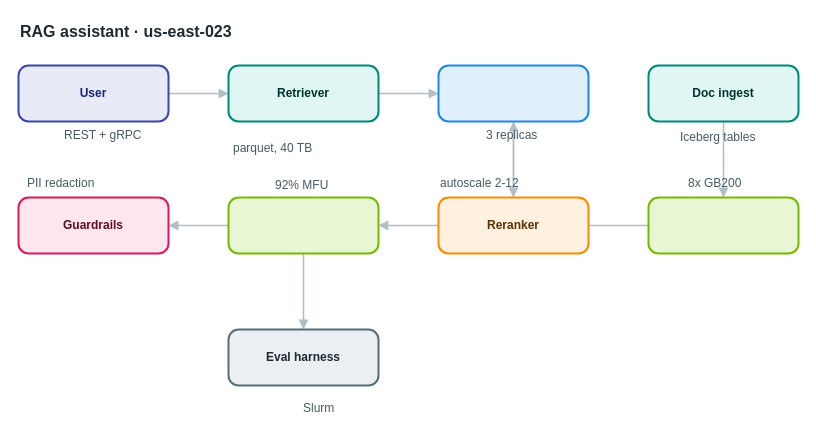
Some shapes in this 816 by 433 pixel diagram are drawn without their labels. Here are the shapes that lost their labels. From the top down, the centre of each, then its label:
(513,93): Vector DB
(303,225): Nemotron
(723,225): Embedder
